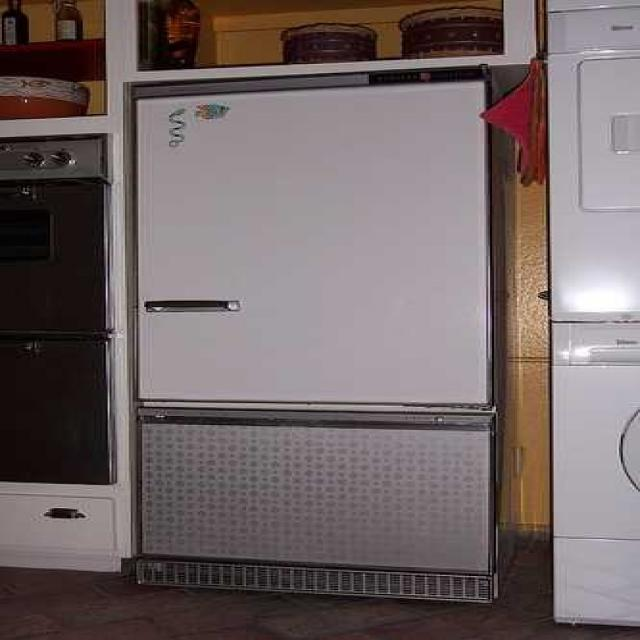refrigerator: (131, 84, 492, 600)
